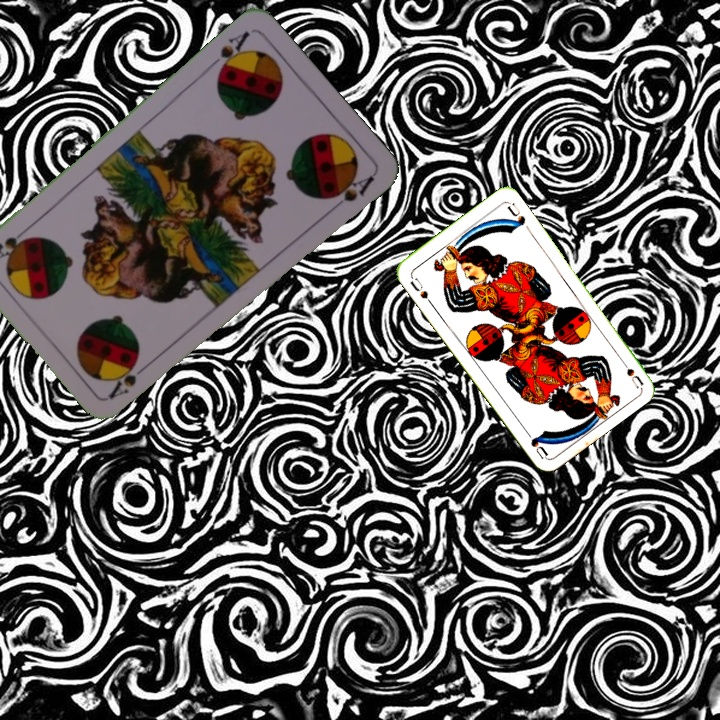SA: (204, 26, 253, 79), (105, 357, 154, 401)
SU: (614, 353, 645, 390), (406, 273, 435, 307)
